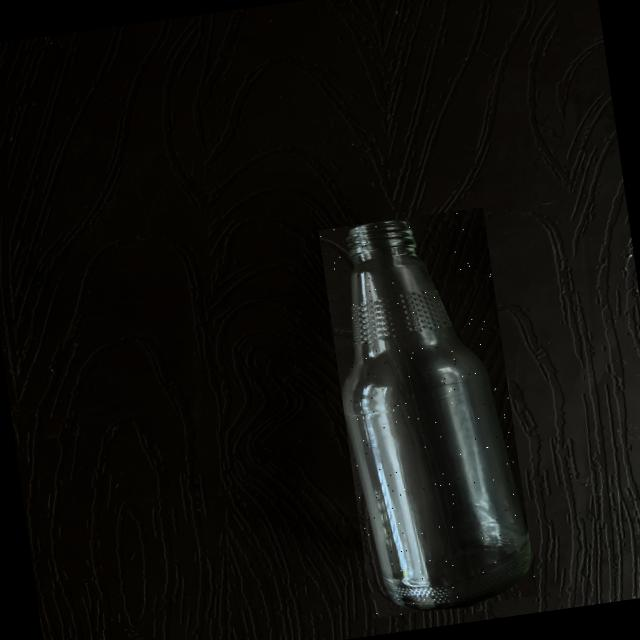Glass_Bottle: (342, 221, 530, 609)
